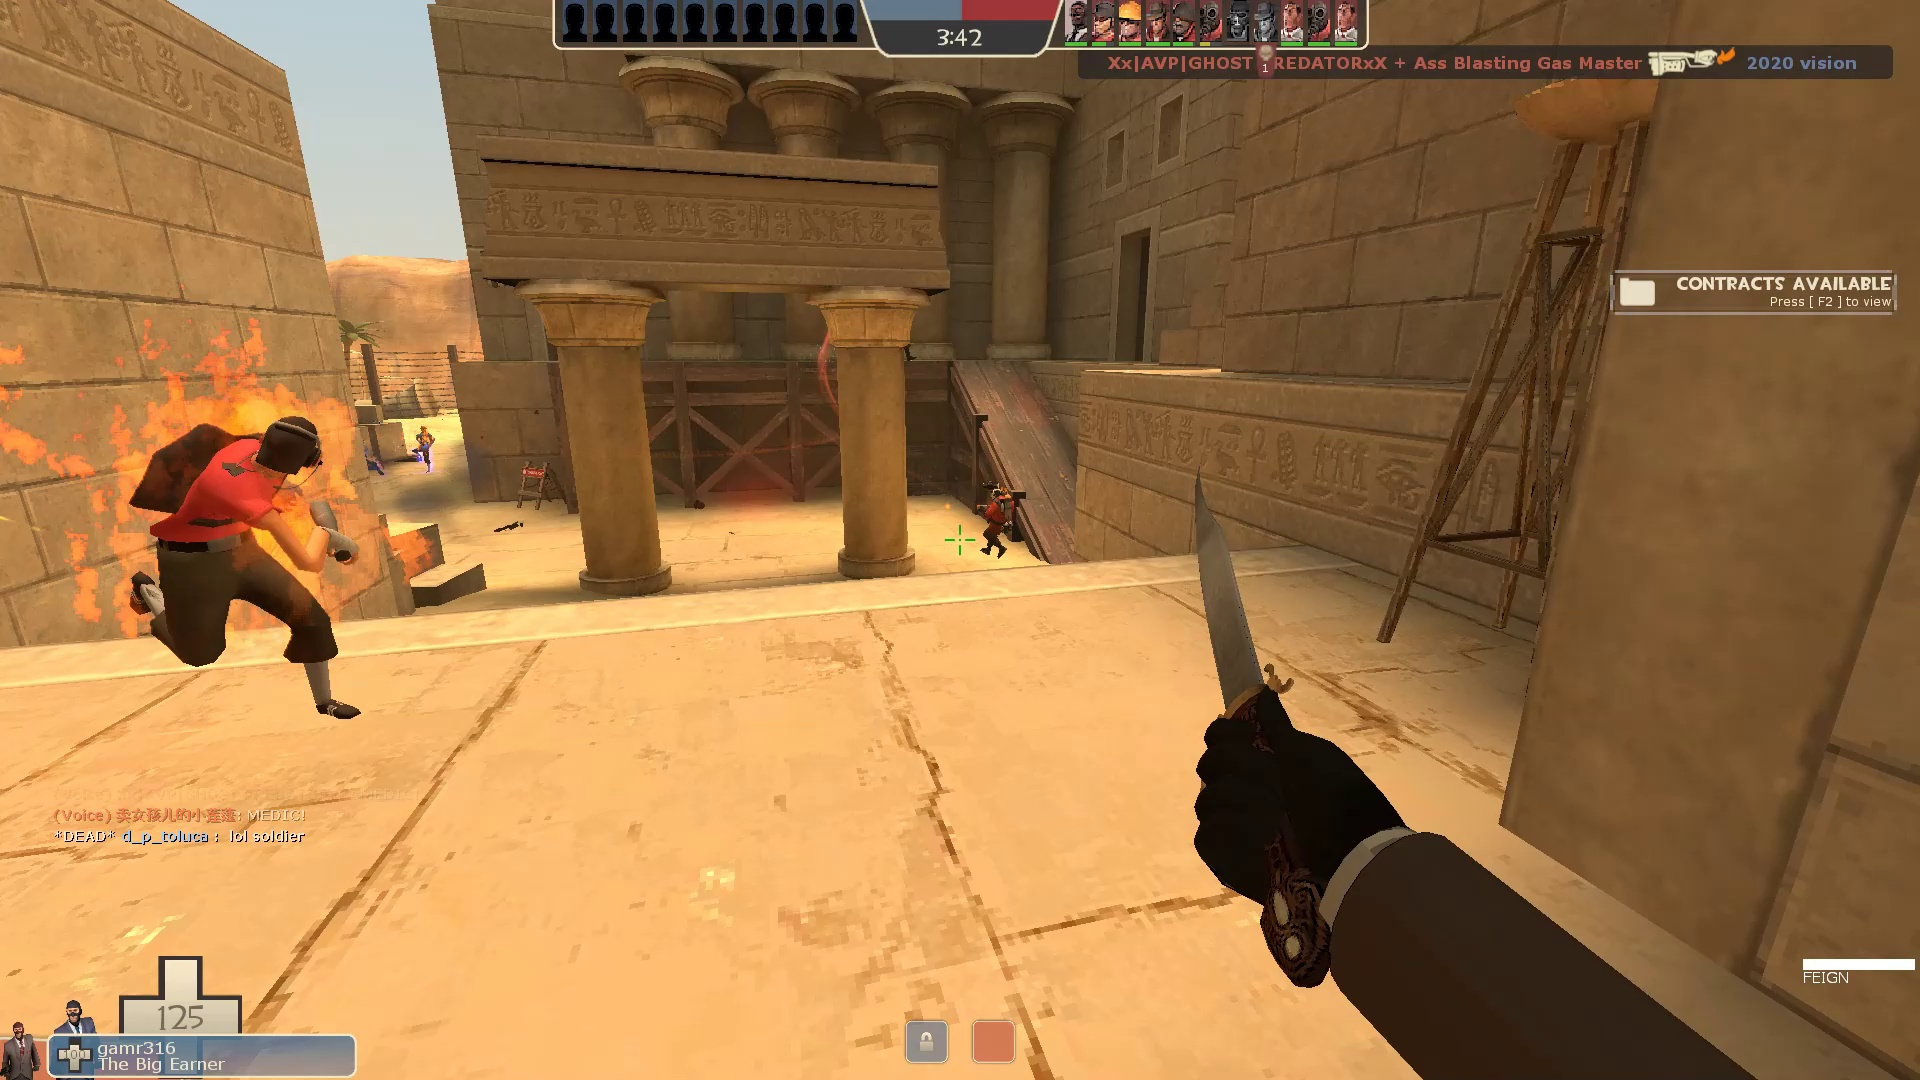red_pyro: (967, 483, 1019, 560)
red_scout: (104, 396, 378, 725)
